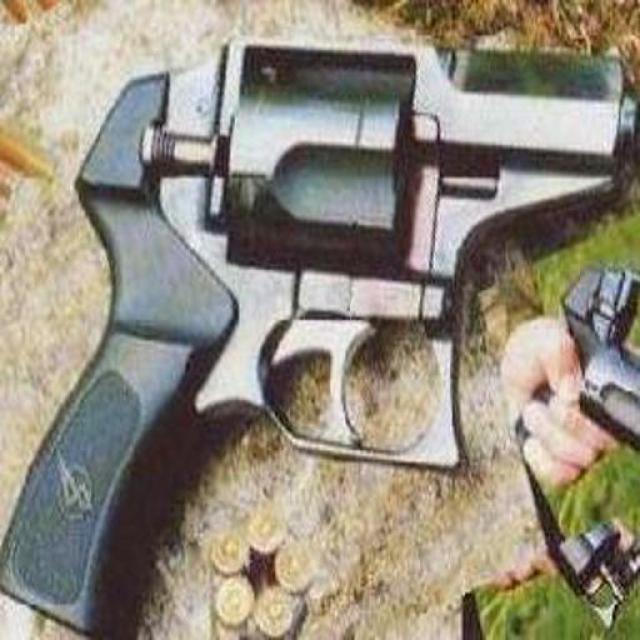pistol: (1, 33, 635, 628)
